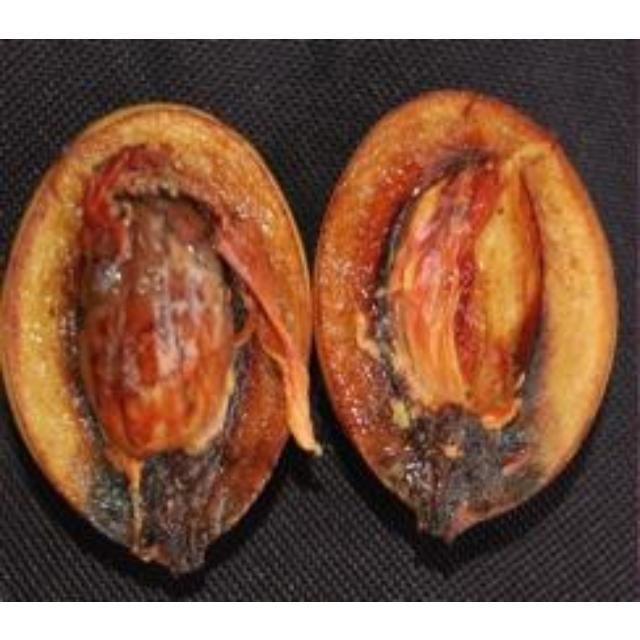damaged: (0, 101, 323, 581), (312, 90, 619, 549)
